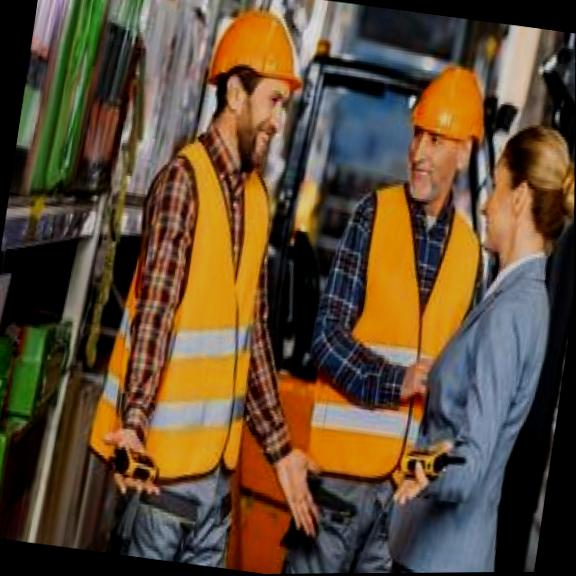no_safety_vest: (395, 271, 556, 573)
safety_vest: (84, 138, 274, 489), (294, 184, 481, 507)
